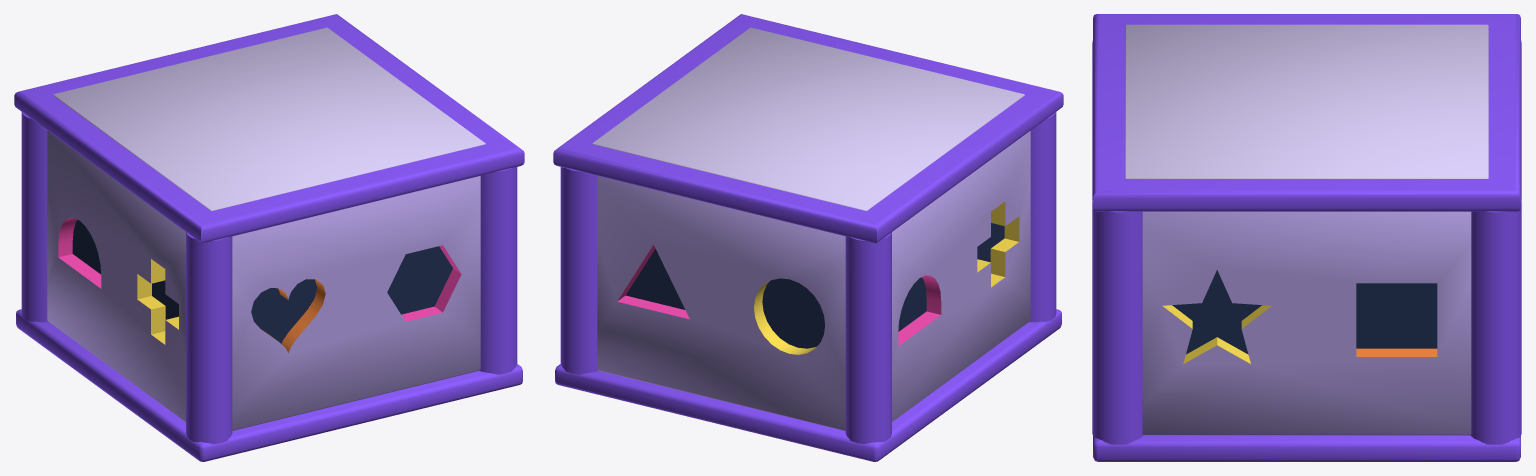
The model's file is toy_shape_cube.glb.
3 renders of one model, left to right at view 1: azimuth 30°, elevation 25°; view 2: azimuth 150°, elevation 25°; view 3: azimuth 270°, elevation 25°, orthographic. The views are drawn at different scales.
Visible parts, largest first — view 1: toy_shape_cube; view 2: toy_shape_cube; view 3: toy_shape_cube.
Part boxes in pixels (left/top/right/bottom): toy_shape_cube: left=14, top=14, right=524, bottom=461; toy_shape_cube: left=553, top=14, right=1063, bottom=461; toy_shape_cube: left=1092, top=14, right=1521, bottom=461.
Size of the model in its own units: 10.02 by 7.03 by 10.04.
Materials: 1 (1 with a texture image).
